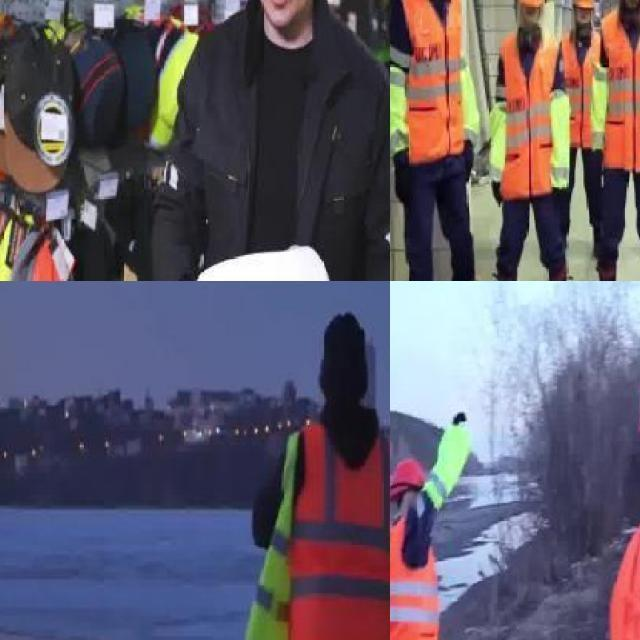apron: (393, 147, 411, 200), (464, 136, 474, 182), (550, 185, 568, 208), (590, 145, 604, 173), (490, 181, 503, 206)
